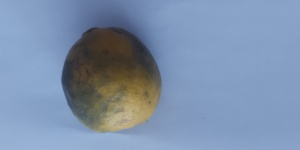BAD: (59, 25, 164, 132)
